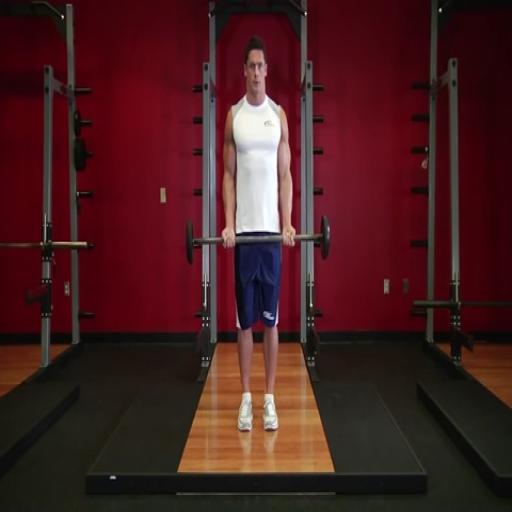exercise: (218, 34, 298, 435)
